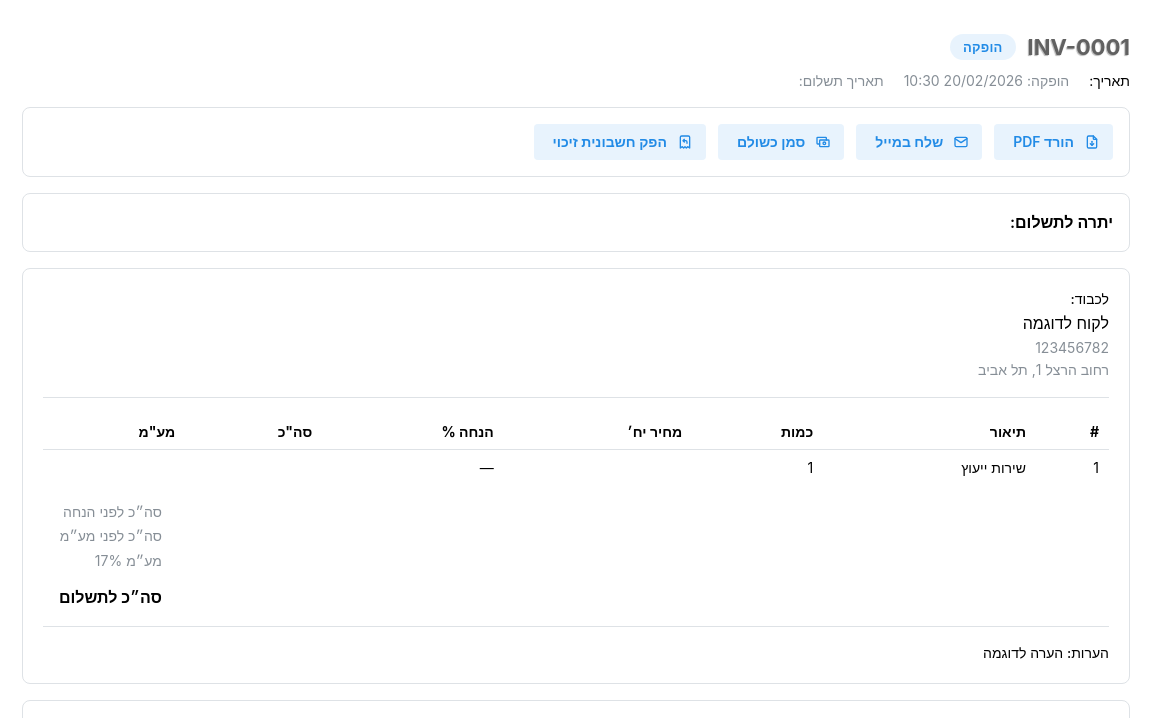
Test: InvoiceDetail › send email › disables confirm button when email is empty
Click the button "שלח במייל". click: {"x": 919, "y": 142}
box: x1=856 y1=124 x2=982 y2=160
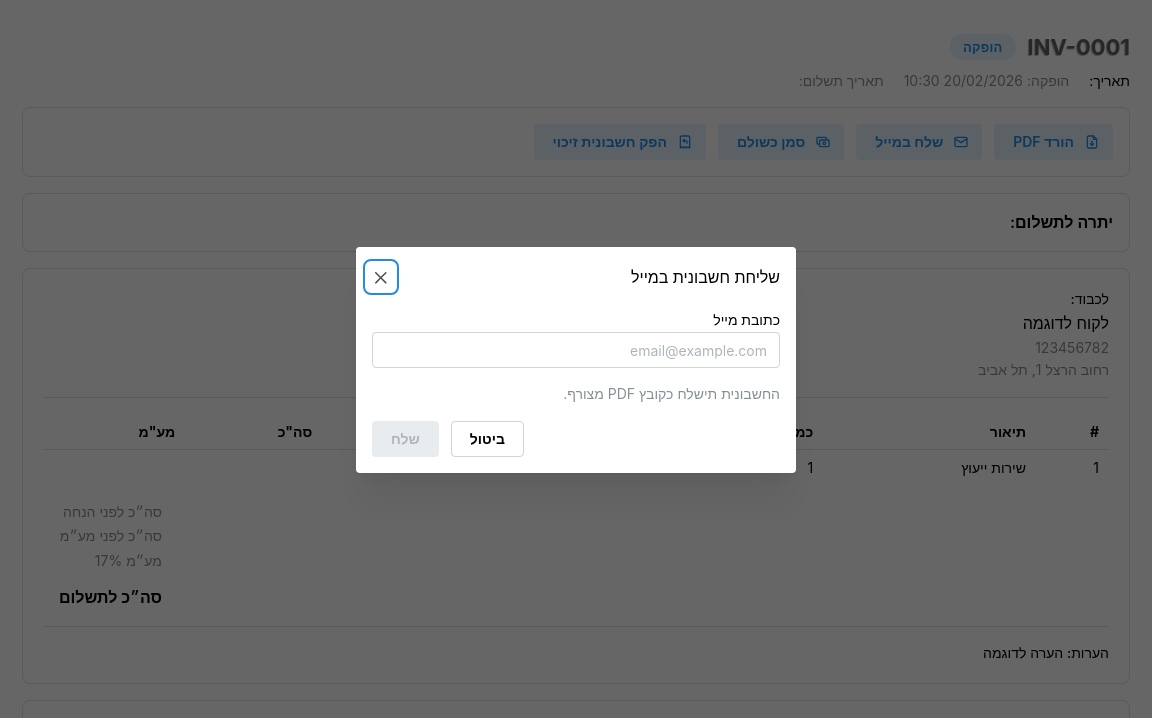
Expected: the heading "שליחת חשבונית במייל" is shown, x1=631 y1=270 x2=780 y2=286
Expected: the button "שלח" is disabled, x1=372 y1=420 x2=439 y2=456
